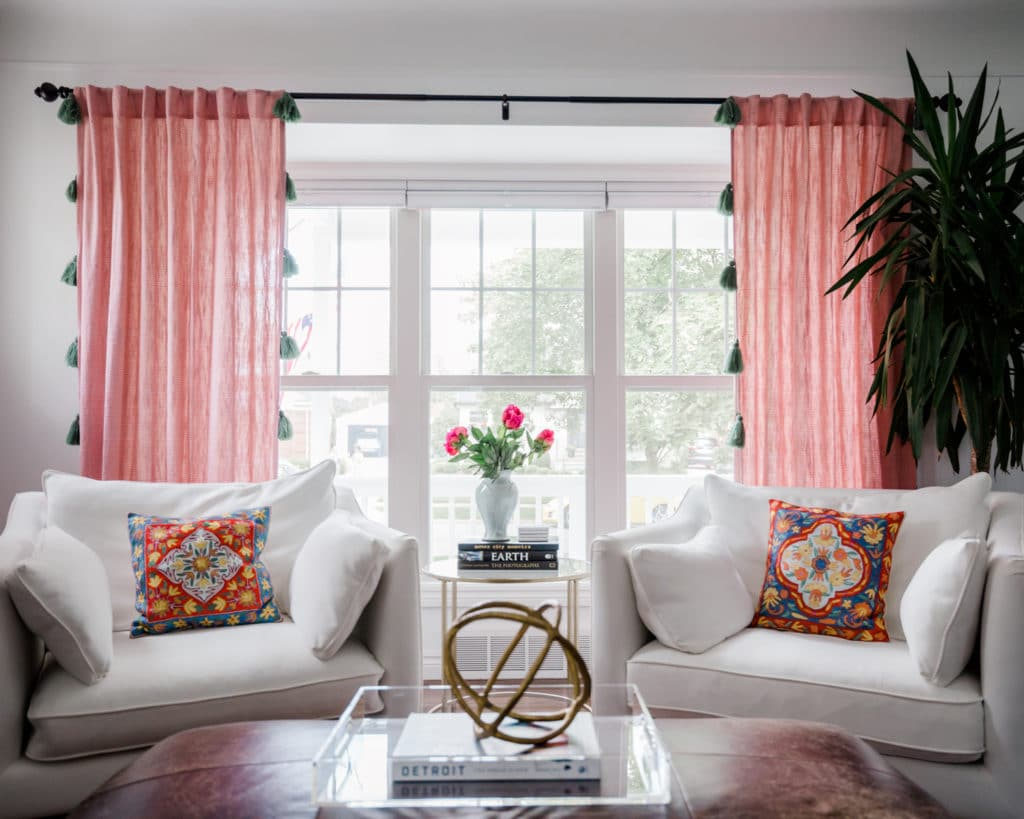putih: (877, 499, 1024, 714), (16, 487, 129, 754), (276, 491, 408, 695), (624, 492, 756, 696)
